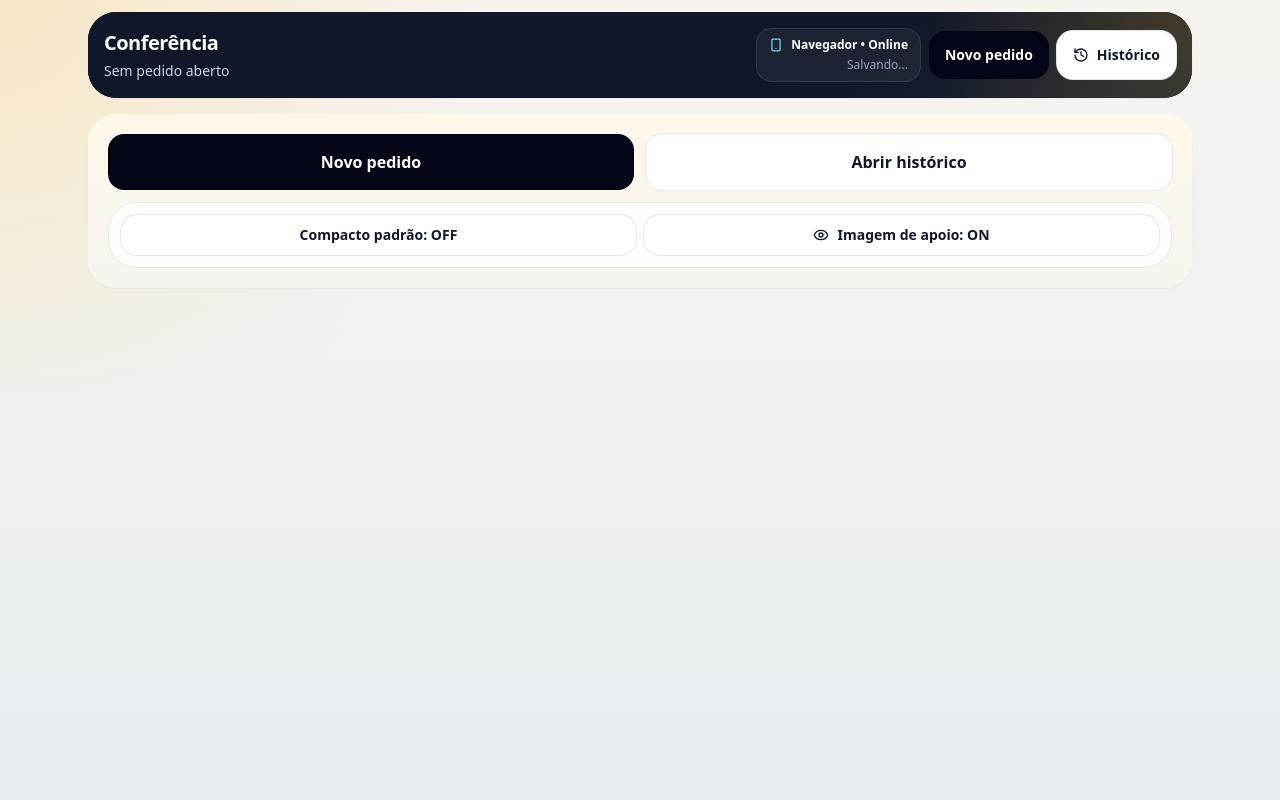
it: App integration › aplica preferências operacionais simples ao abrir um pedido
The image size is (1280, 800).
Click the button "Compacto padrão: OFF" at (378, 235), box x1=121 y1=215 x2=636 y2=255
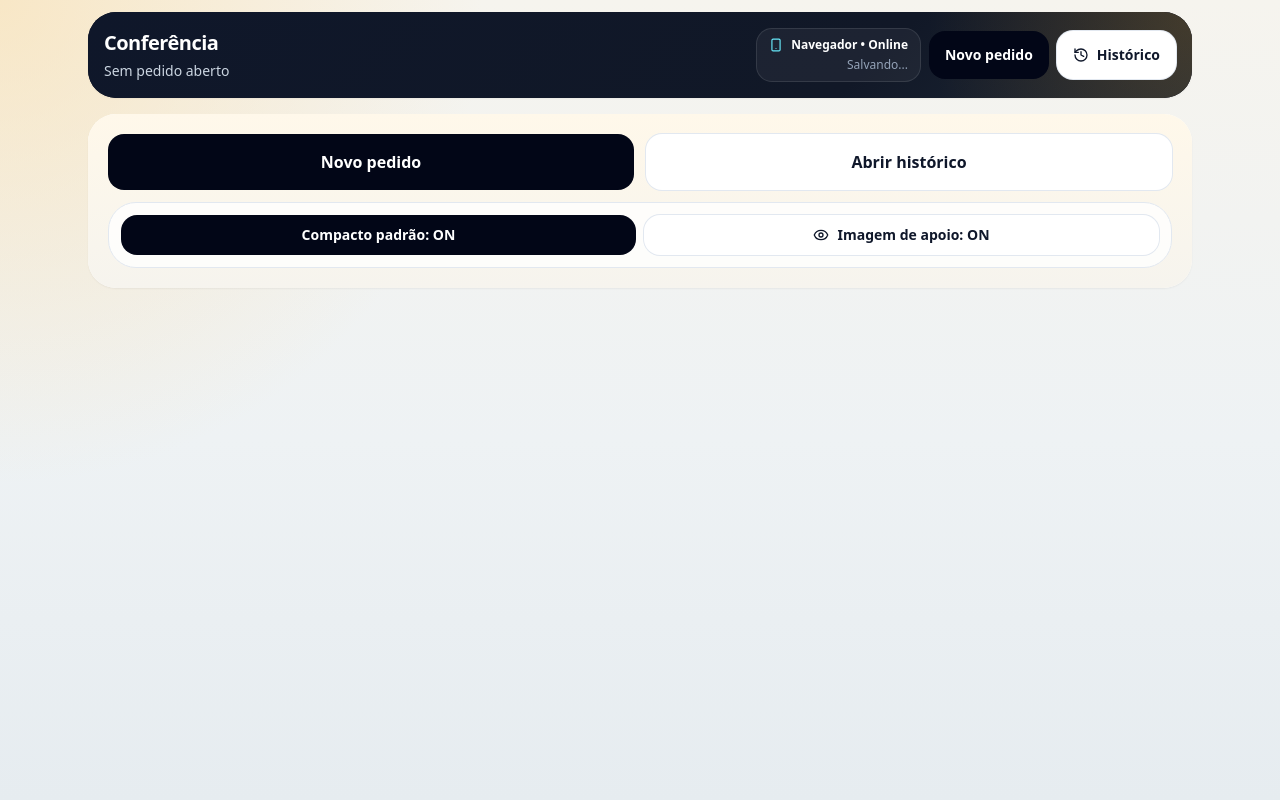
Click the button "Imagem de apoio: ON" at (902, 235), box x1=644 y1=215 x2=1159 y2=255
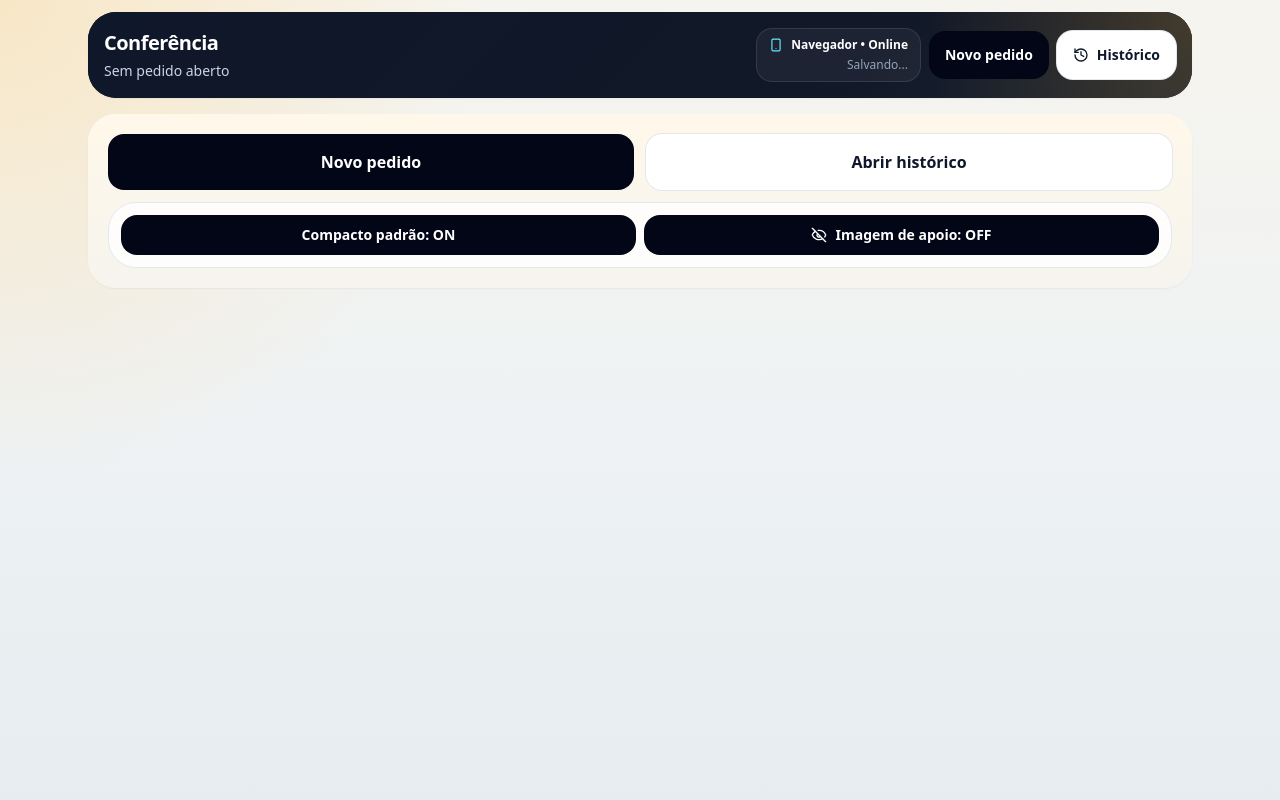
Click the button "Novo pedido" next to "Online" at (989, 55), box x1=929 y1=31 x2=1049 y2=79
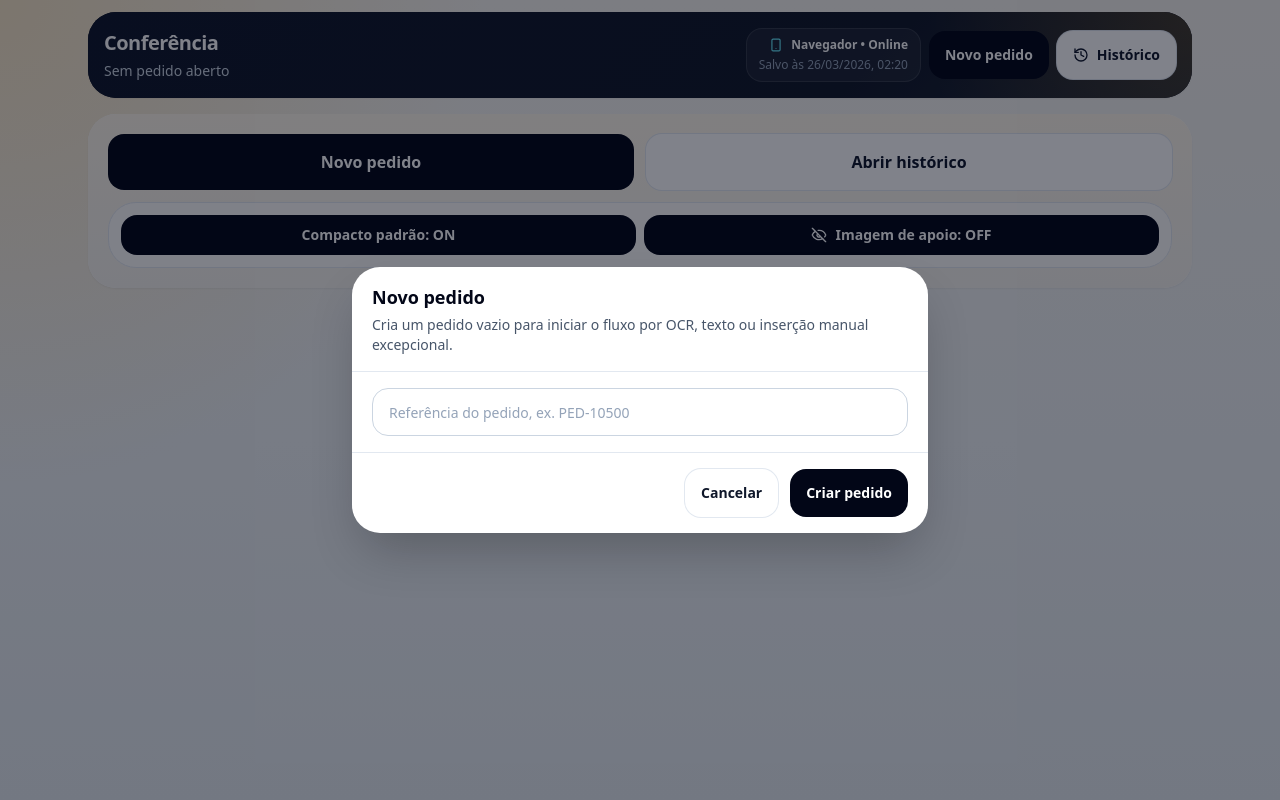
Click the button "Criar pedido" at (849, 493), box x1=790 y1=469 x2=908 y2=517
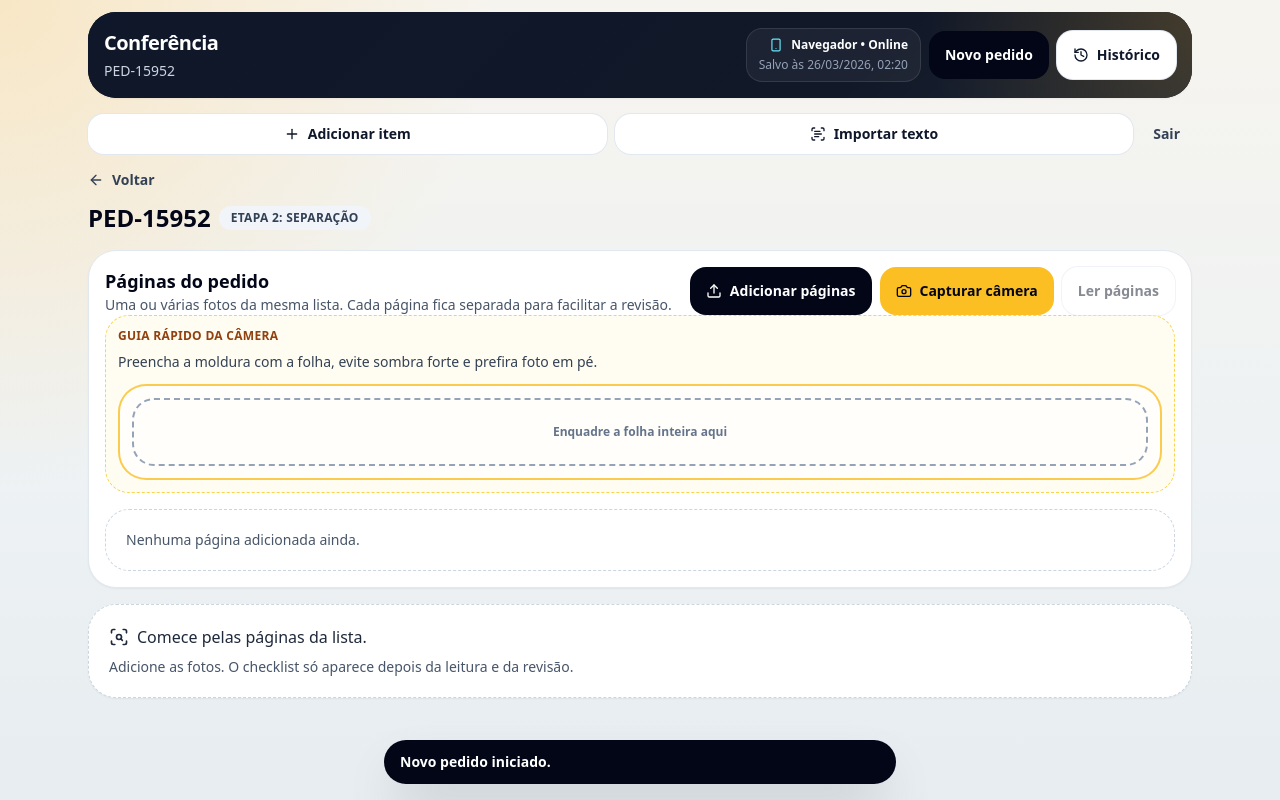
Click the button "Importar texto" at (874, 134), box x1=615 y1=114 x2=1133 y2=154
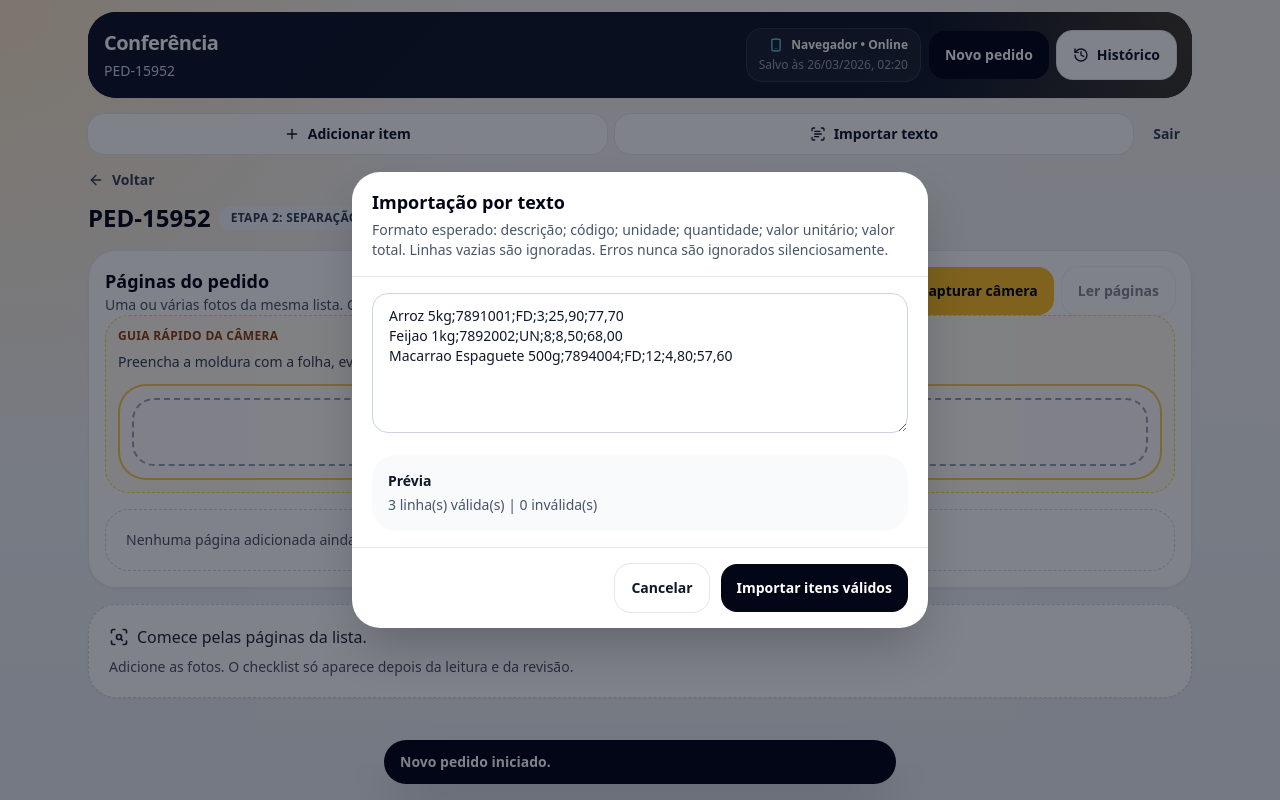
Replace the text in the text box with "Item Preferencia QA;7898888;UN;3;6,00;18,00" at (640, 363), box x1=372 y1=293 x2=908 y2=433
Click the button "Importar itens válidos" at (814, 588), box x1=720 y1=564 x2=908 y2=612
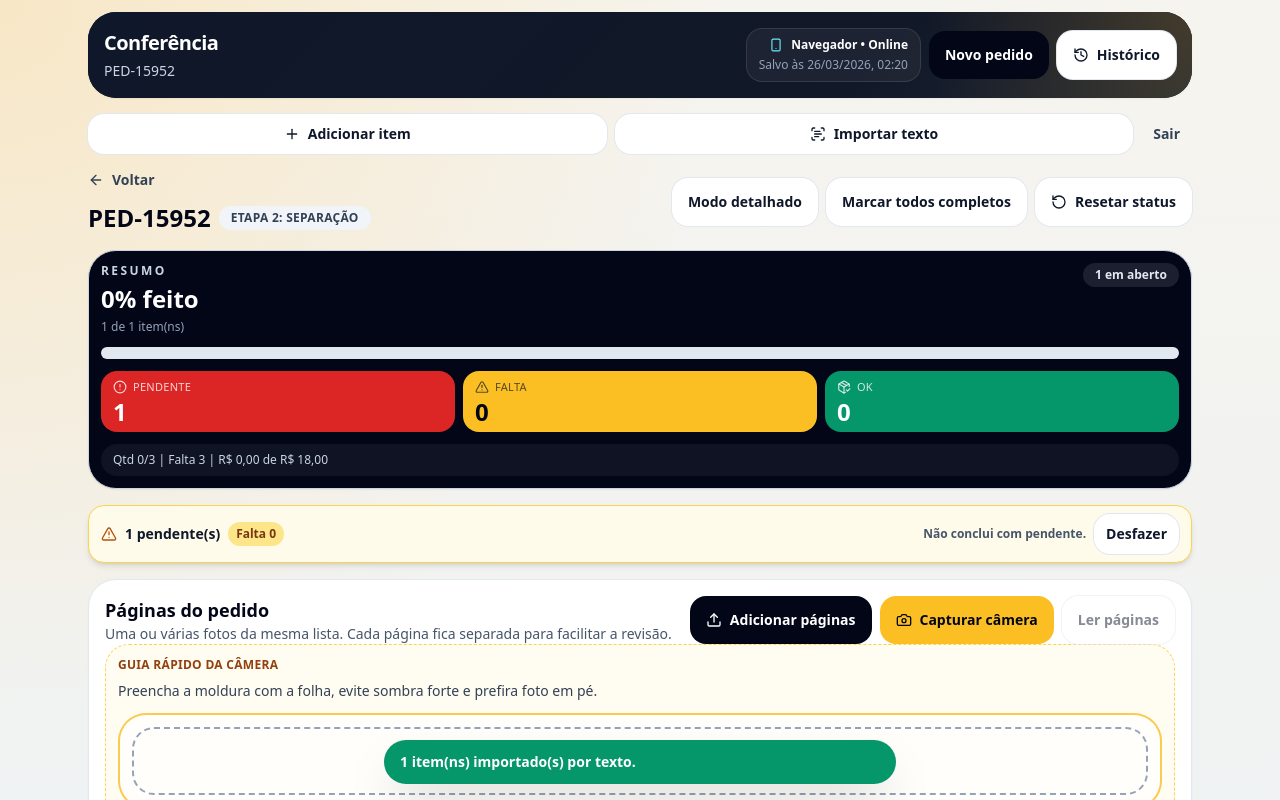
Now the button "Modo detalhado" is shown, box x1=672 y1=178 x2=818 y2=226
